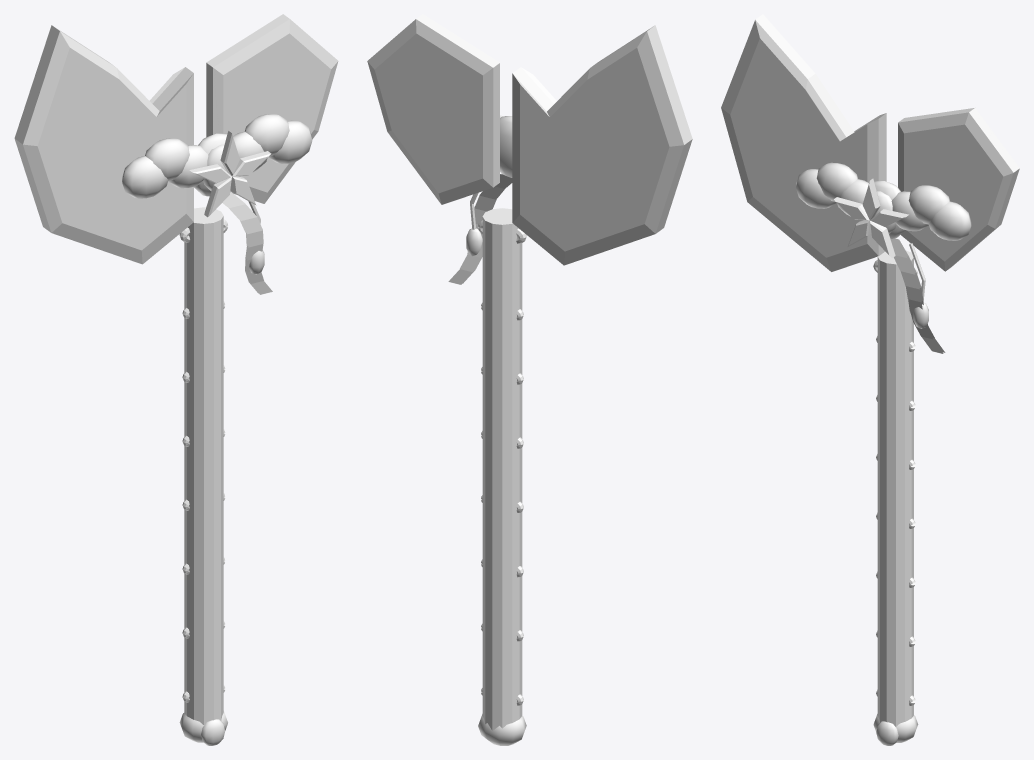
The model's file is axe.obj.
The picture shows the model from 3 angles, left to right: view 1: azimuth 30°, elevation 25°; view 2: azimuth 150°, elevation 25°; view 3: azimuth 330°, elevation 25°; orthographic projection. The views are drawn at different scales.
Bounding box in the file's own units: 0.4625 × 1.05 × 0.0995.
